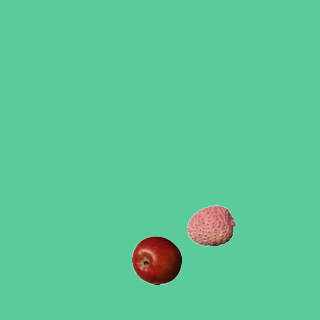Apple Braeburn: (131, 235, 181, 285)
Lychee: (186, 200, 236, 250)
